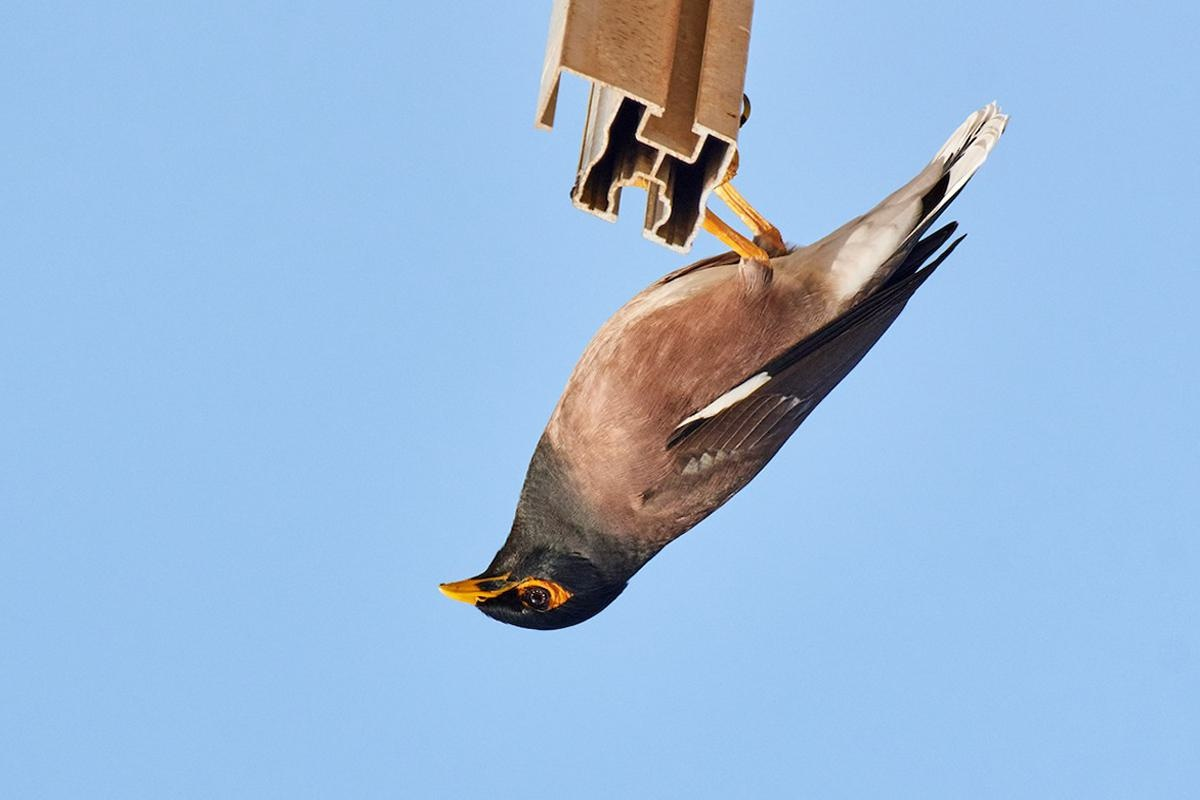myna: (450, 203, 945, 645)
